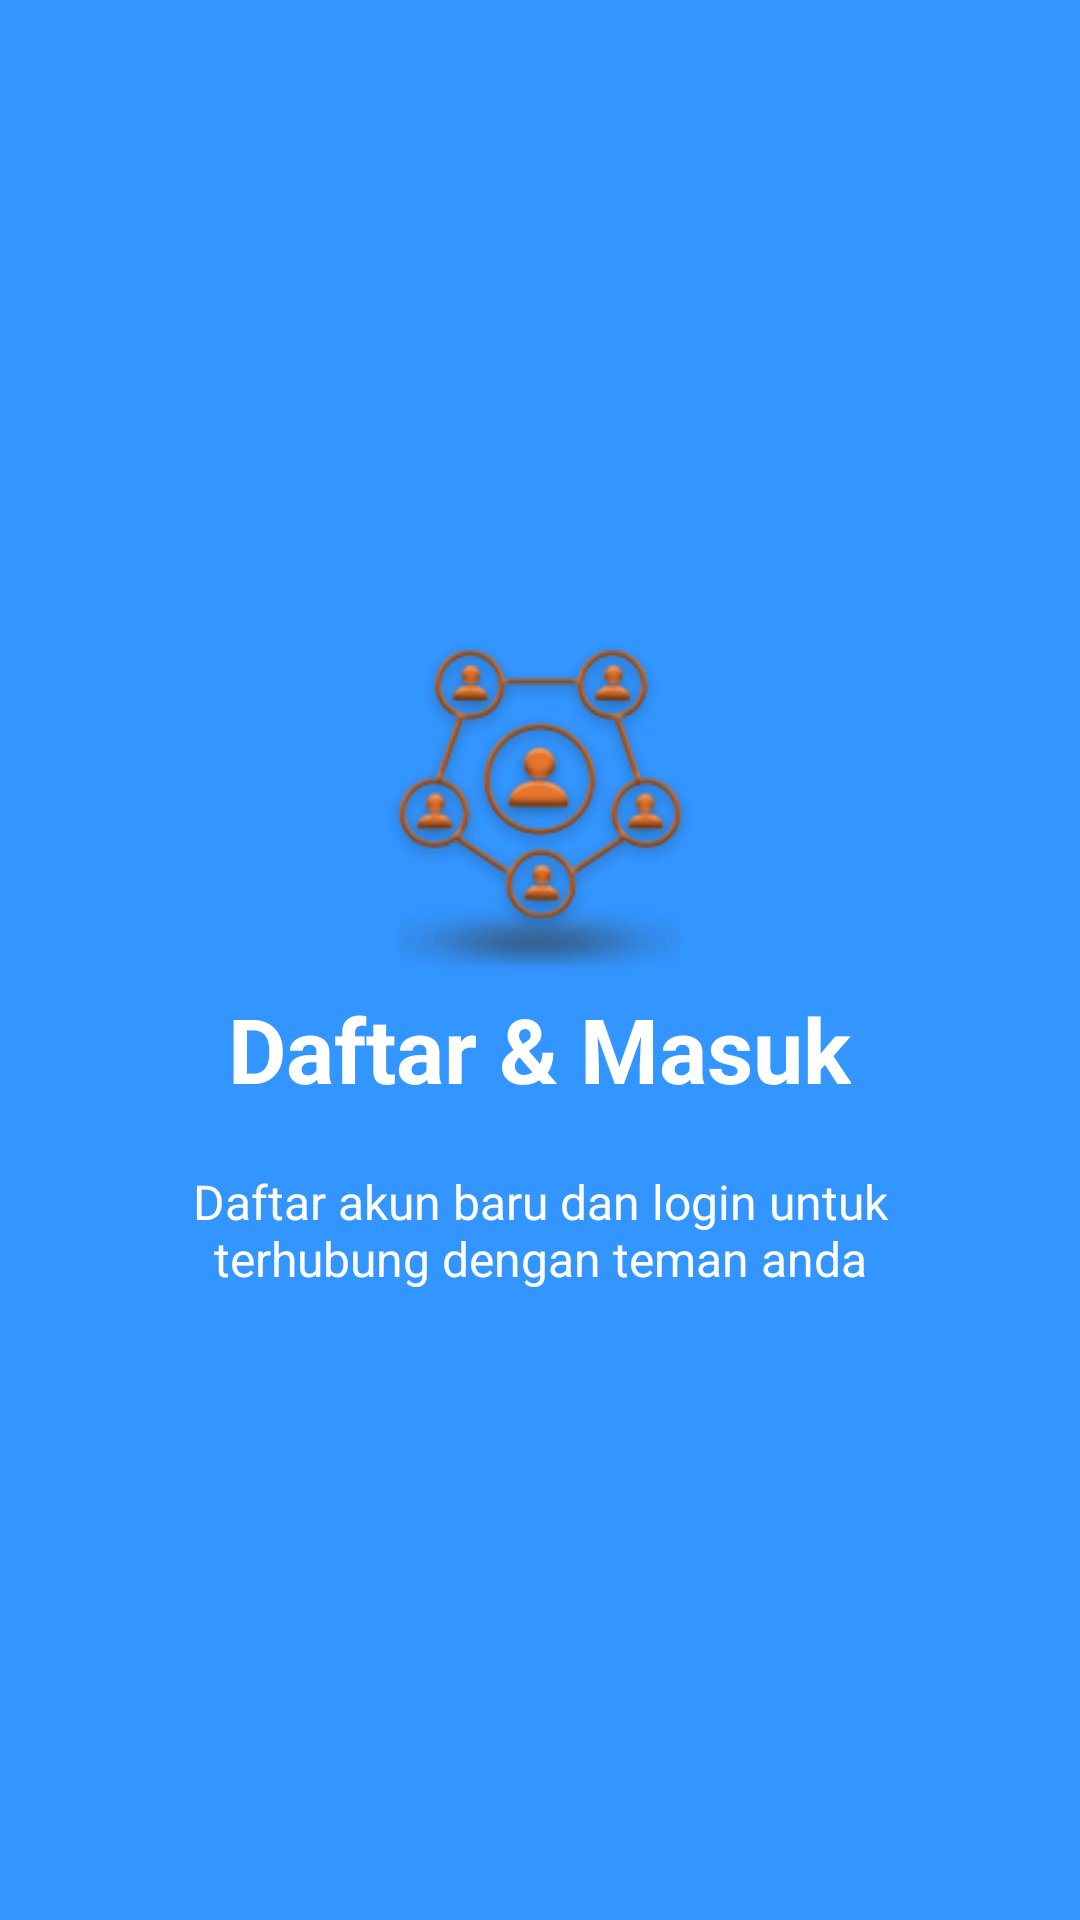

Point at icon controls on the screen. Image size 1080w x 1920h, points as (x,y).
connect: (540,807)
